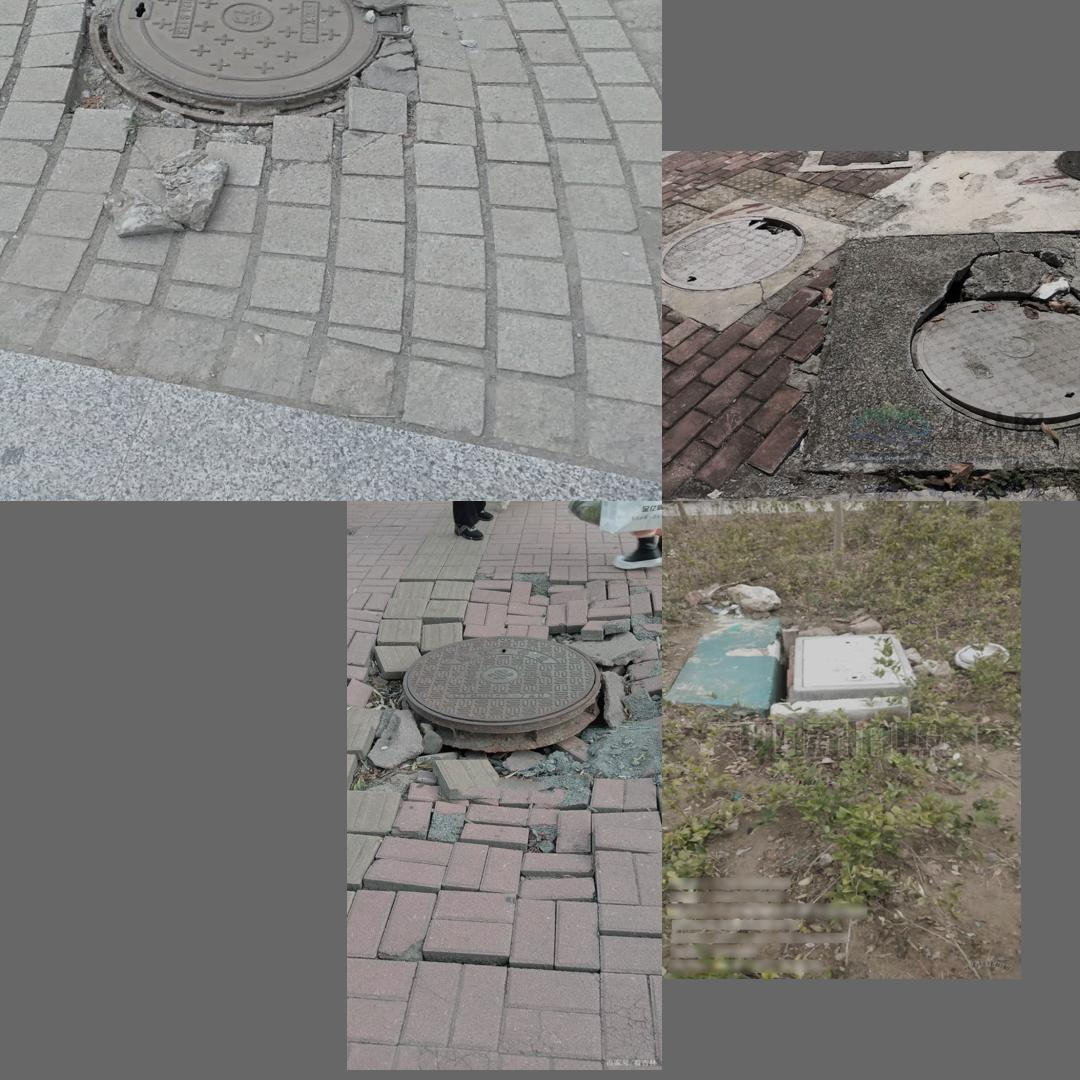circle: (353, 586, 658, 860), (794, 220, 1080, 474), (33, 0, 462, 165), (767, 627, 925, 715)
